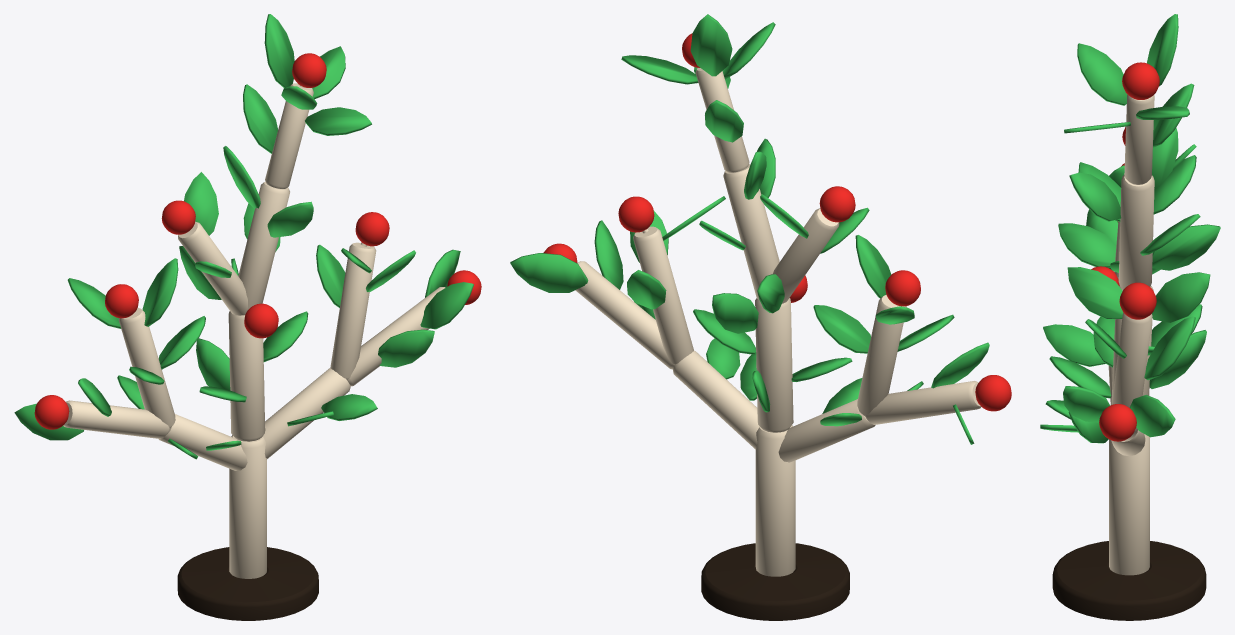
File: arvore de brinquedo2.fbx
3 views of the same model, side by side, from view 1: azimuth 30°, elevation 25°; view 2: azimuth 150°, elevation 25°; view 3: azimuth 270°, elevation 25° (orthographic). The views are drawn at different scales.
Visible parts, largest first — view 1: SM_WoodenToyTree; view 2: SM_WoodenToyTree; view 3: SM_WoodenToyTree.
Part boxes in pixels (bbox=[...]): SM_WoodenToyTree: bbox=[14, 14, 481, 620]; SM_WoodenToyTree: bbox=[510, 14, 1011, 620]; SM_WoodenToyTree: bbox=[1040, 14, 1220, 620].
Size of the model in its own units: 1.96 by 2.3 by 0.6297.
